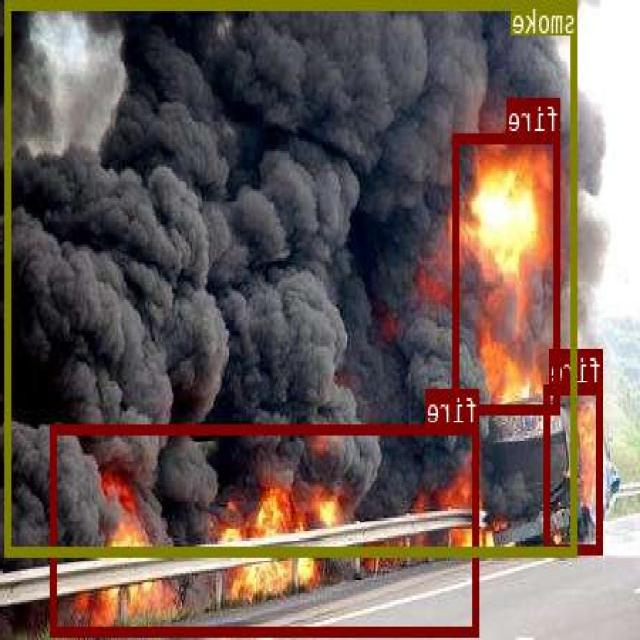fire: (51, 422, 480, 634), (454, 133, 561, 413), (546, 383, 604, 552)
smoke: (7, 0, 579, 553)
